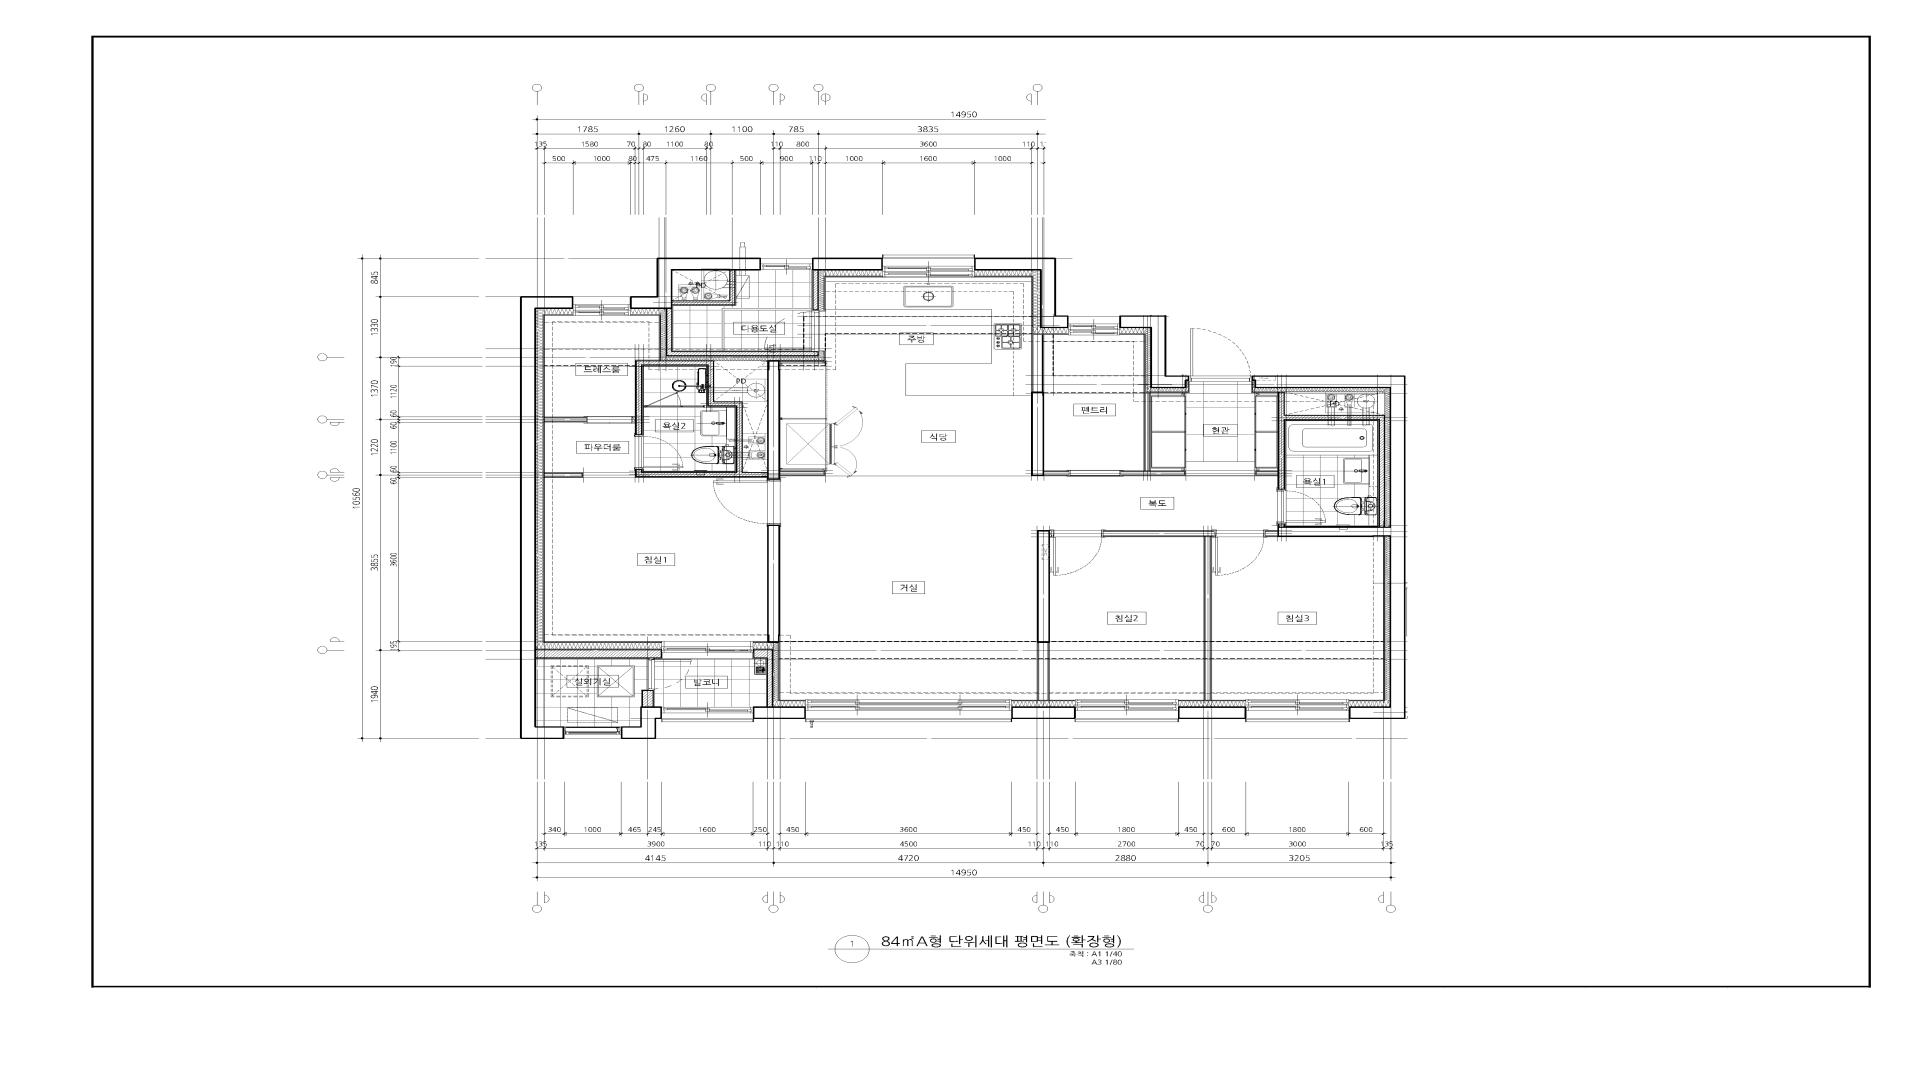door: (1188, 328, 1251, 381), (712, 480, 781, 525), (1050, 530, 1104, 576), (1215, 530, 1266, 576), (764, 311, 819, 351), (1278, 489, 1327, 524), (636, 435, 683, 469), (647, 659, 691, 691), (644, 392, 682, 407), (1069, 471, 1121, 477), (587, 417, 632, 423)
wall: (1251, 376, 1406, 719), (520, 297, 574, 738), (632, 360, 825, 480), (1104, 530, 1215, 702), (1255, 392, 1385, 526), (666, 309, 819, 356), (630, 257, 761, 309), (975, 257, 1068, 328), (1121, 393, 1187, 476), (1031, 334, 1069, 476), (1120, 315, 1189, 388), (1036, 530, 1050, 702), (673, 270, 736, 306), (767, 525, 781, 644), (621, 707, 662, 738), (537, 649, 662, 658), (753, 649, 773, 707), (812, 257, 882, 270), (1179, 707, 1245, 719), (1011, 707, 1075, 719), (754, 707, 804, 719), (812, 270, 819, 311), (543, 417, 587, 422), (543, 472, 584, 477), (642, 691, 654, 707), (1266, 530, 1278, 537), (1278, 524, 1286, 527)
window: (804, 699, 1011, 723), (1245, 699, 1350, 723), (1075, 699, 1179, 723), (882, 255, 975, 278), (662, 641, 753, 658), (661, 707, 754, 723), (574, 297, 630, 315), (1068, 315, 1120, 335), (761, 257, 812, 270), (564, 727, 621, 738)
